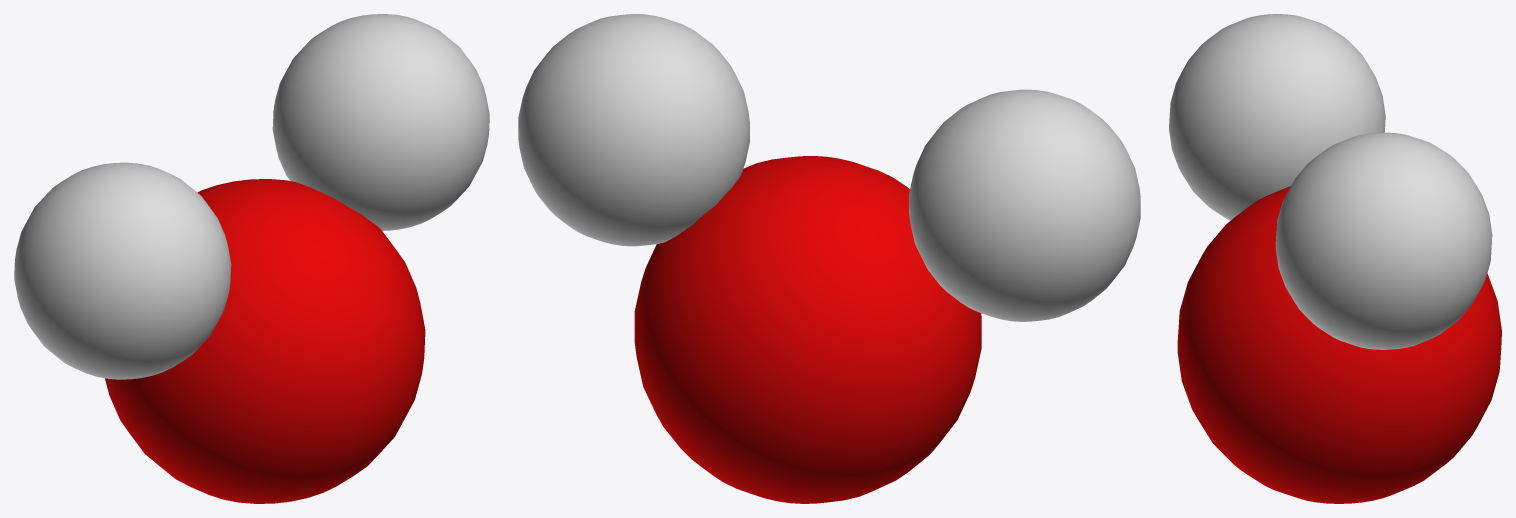
The picture shows the model from 3 angles, left to right: view 1: azimuth 30°, elevation 25°; view 2: azimuth 150°, elevation 25°; view 3: azimuth 270°, elevation 25°; orthographic projection. The views are drawn at different scales.
Visible parts, largest first — view 1: Sphere001, Sphere002, Sphere003; view 2: Sphere001, Sphere002, Sphere003; view 3: Sphere001, Sphere003, Sphere002.
Boxes of the visible parts, <box> form: Sphere001: <box>105,179,425,503</box>; Sphere002: <box>14,162,231,379</box>; Sphere003: <box>272,14,489,230</box>; Sphere001: <box>634,156,981,503</box>; Sphere002: <box>909,89,1140,321</box>; Sphere003: <box>518,14,749,246</box>; Sphere001: <box>1177,186,1501,503</box>; Sphere003: <box>1275,132,1492,349</box>; Sphere002: <box>1169,14,1385,220</box>.
Bounding box in the file's own units: 14.93 × 8.63 × 11.83.
